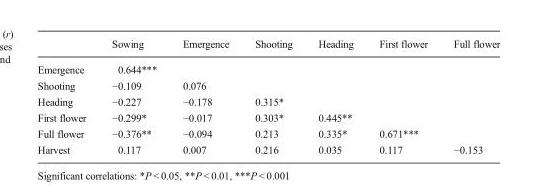table: (36, 37, 499, 155)
table column: (365, 37, 439, 155), (169, 37, 241, 155), (98, 37, 169, 155), (241, 37, 304, 155), (36, 37, 98, 155), (304, 37, 365, 155), (439, 37, 499, 155)
table column header: (36, 37, 499, 56)
table row: (36, 56, 499, 76), (36, 37, 499, 56), (36, 76, 499, 92), (36, 92, 499, 108), (36, 108, 499, 124), (36, 124, 499, 140), (36, 140, 499, 155)
